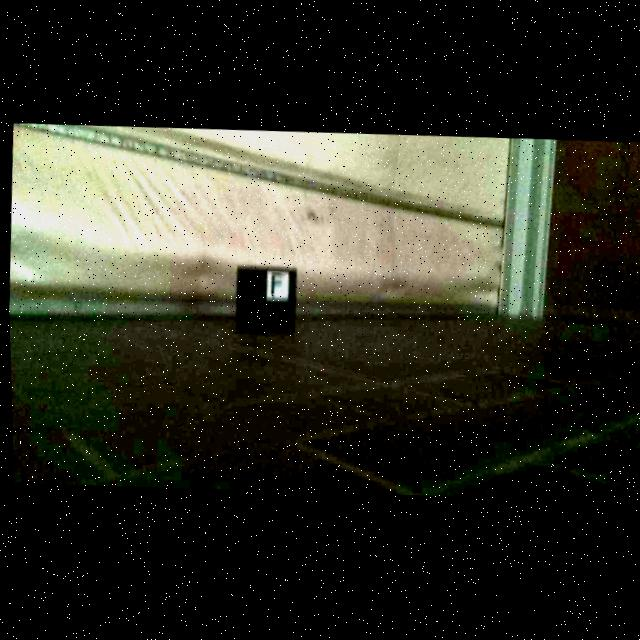F: (270, 274, 282, 296)
